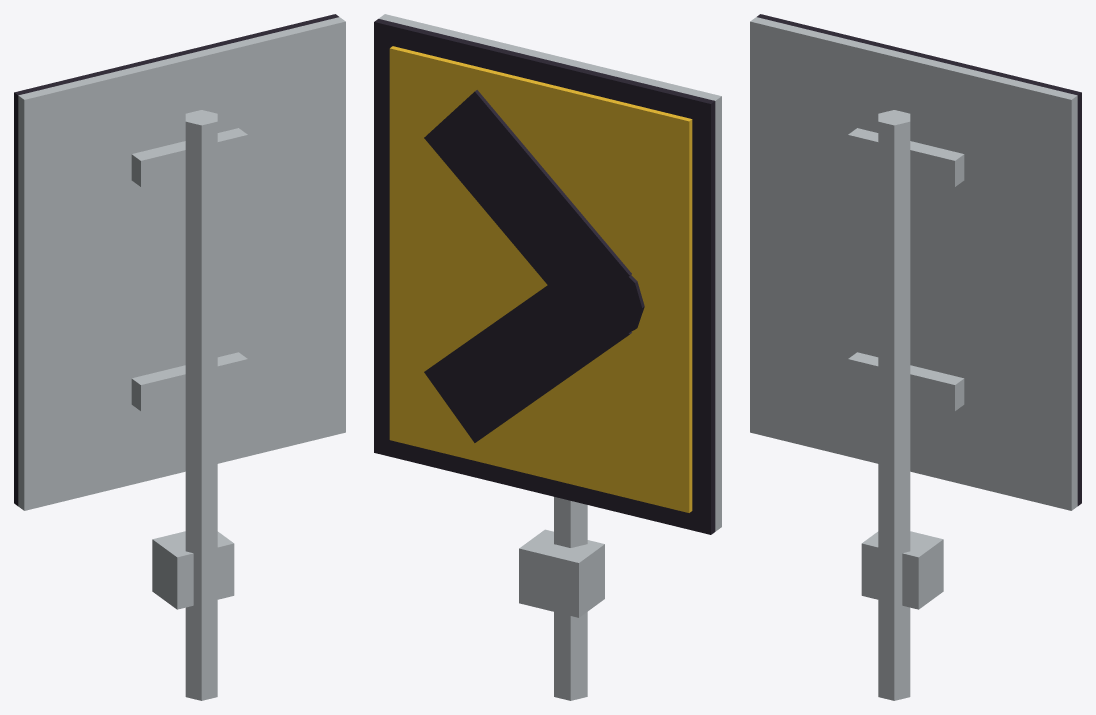
File: corner_chevron_rail_right.glb
The picture shows the model from 3 angles, left to right: view 1: azimuth 30°, elevation 25°; view 2: azimuth 150°, elevation 25°; view 3: azimuth 330°, elevation 25°; orthographic projection. The views are drawn at different scales.
Parts seen in each view (by area): view 1: corner_chevron_rail_right; view 2: corner_chevron_rail_right; view 3: corner_chevron_rail_right.
Boxes of the visible parts, x1,y1,x2,y2 form: corner_chevron_rail_right: (14,14,345,700); corner_chevron_rail_right: (374,14,721,700); corner_chevron_rail_right: (750,14,1081,700).
Bounding box in the file's own units: 0.9 × 1.66 × 0.195.
